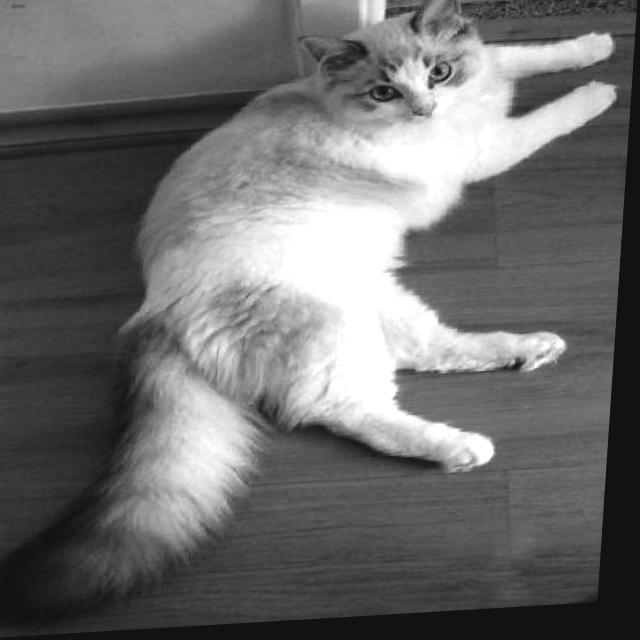Cat: (0, 0, 622, 622)
